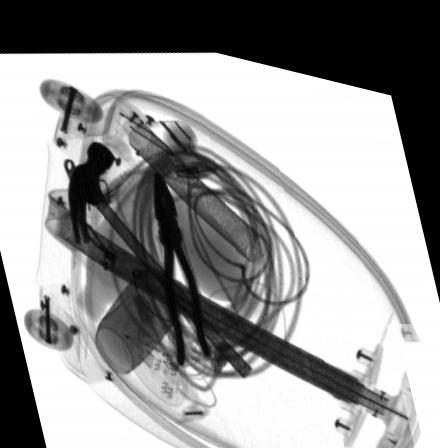Hammer: (69, 134, 252, 365)
Pliers: (152, 162, 212, 359)
